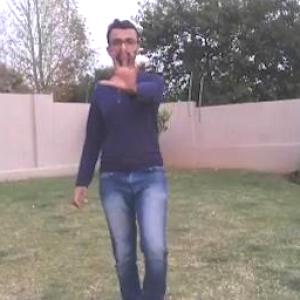follow_hand: (96, 37, 148, 94)
